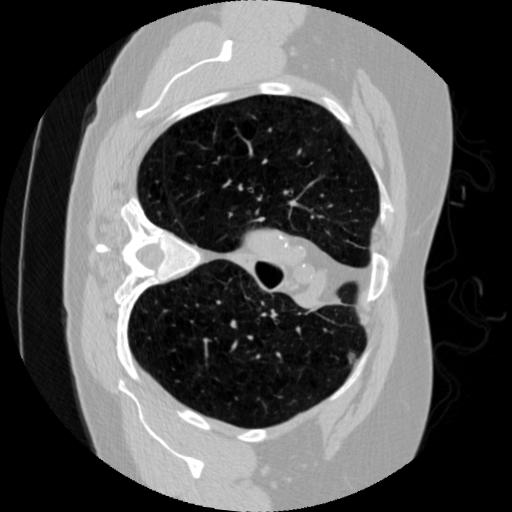nodule: (345, 352, 361, 368)
